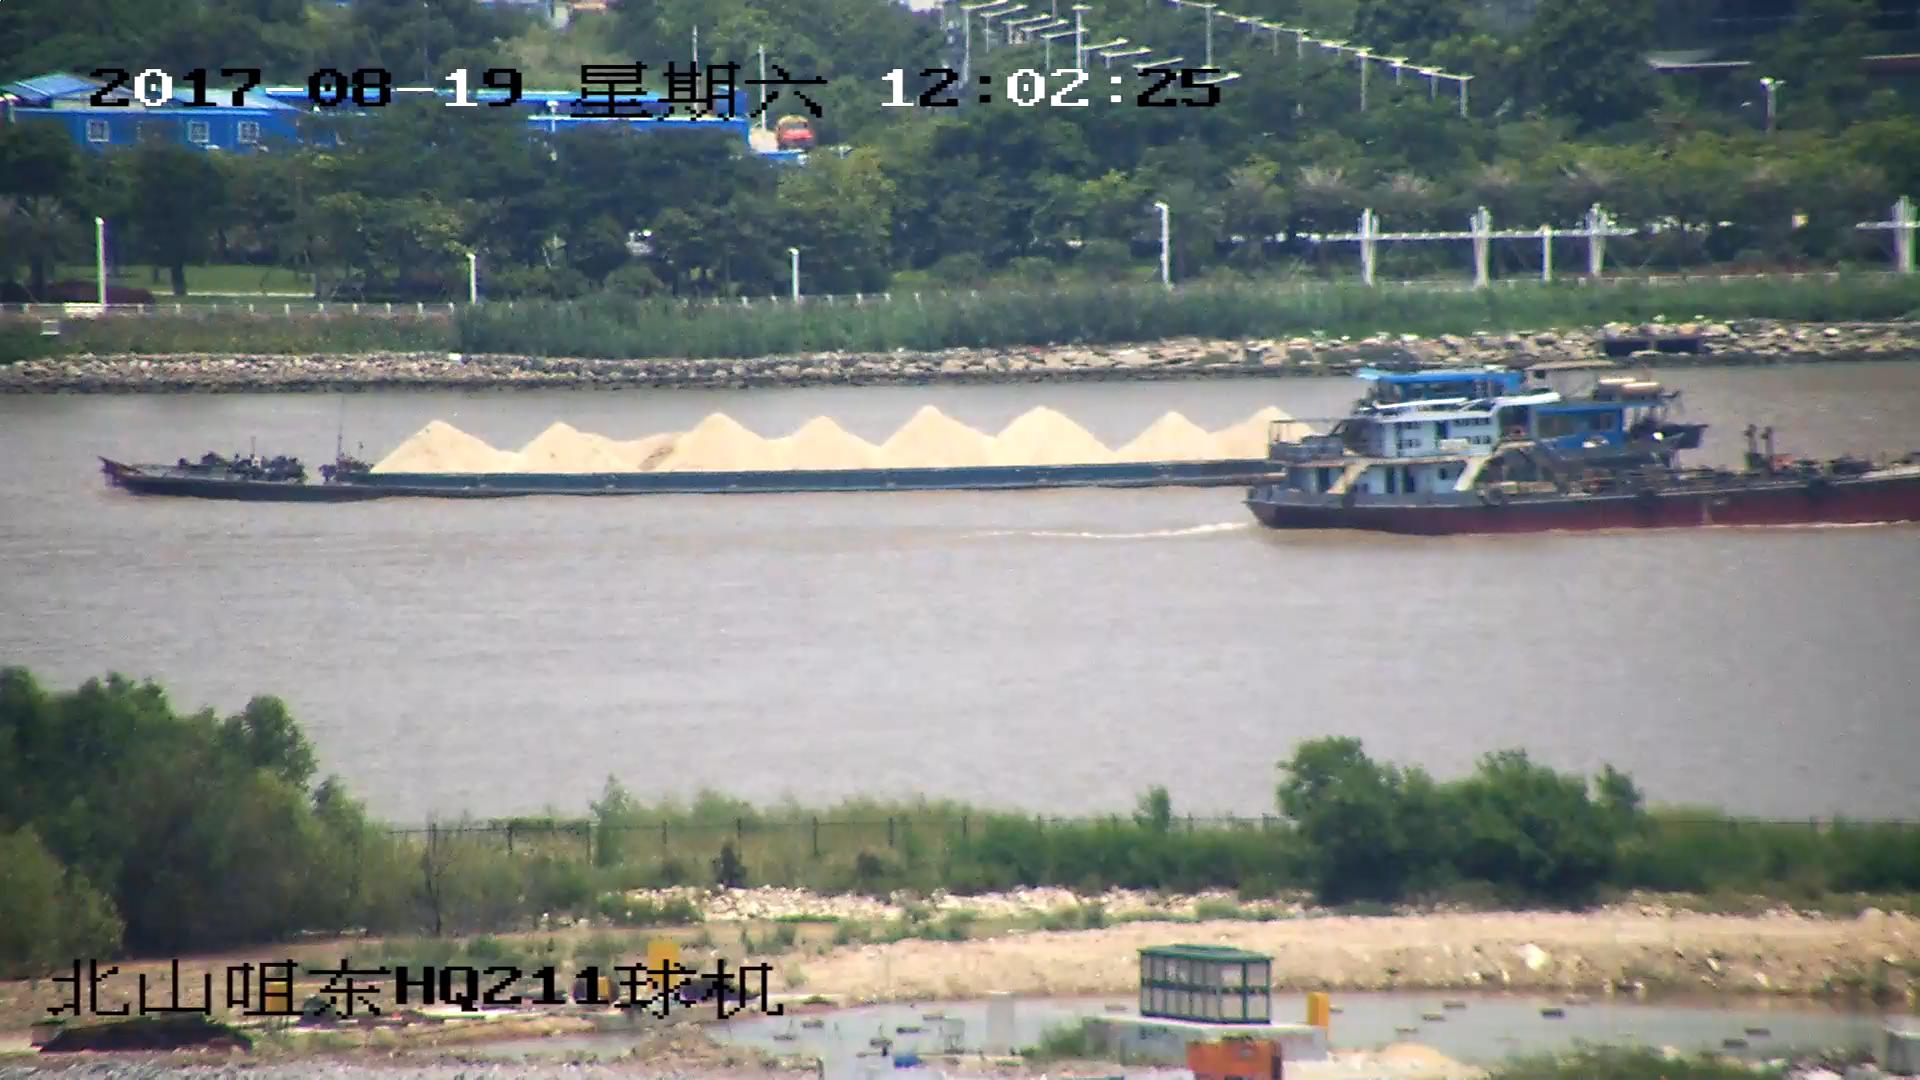bulk cargo carrier: (1246, 392, 1920, 533)
ore carrier: (88, 357, 1707, 508)
